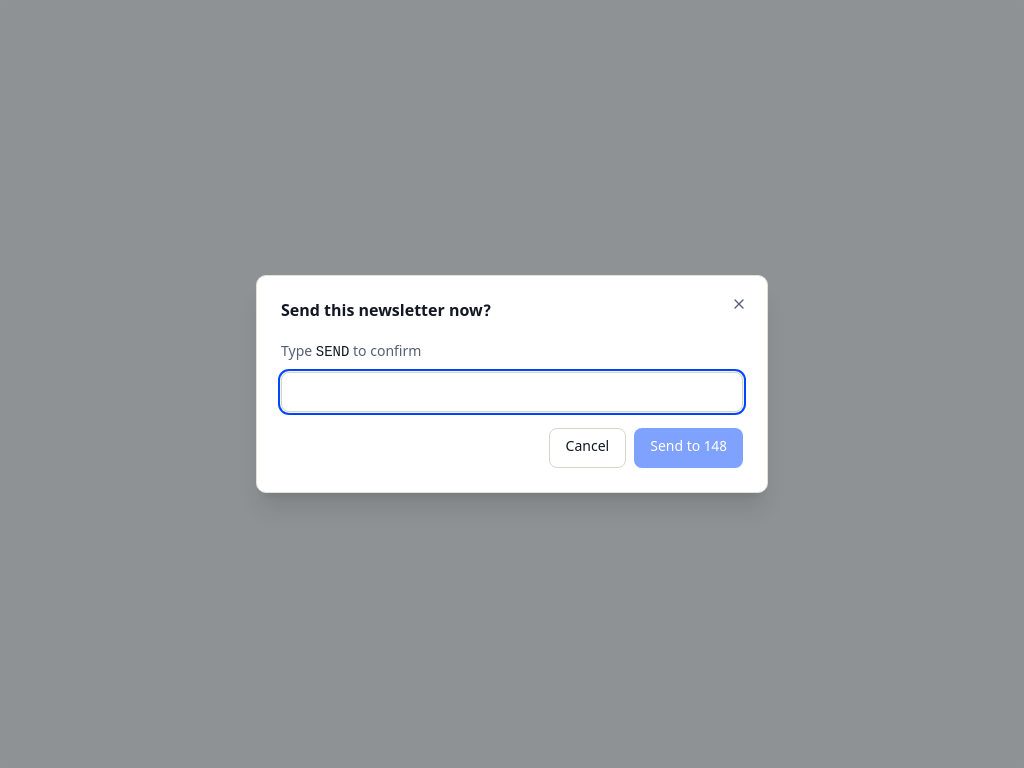
it: ConfirmDialog › requires the exact typed confirmation before sending
Later steps or results of the test are not shown.
expect the button "Send to 148" is disabled: met, box [634,428,743,468]
In the field labelled "Type SEND to confirm": [512, 392] box [281,372,743,412], type "send"
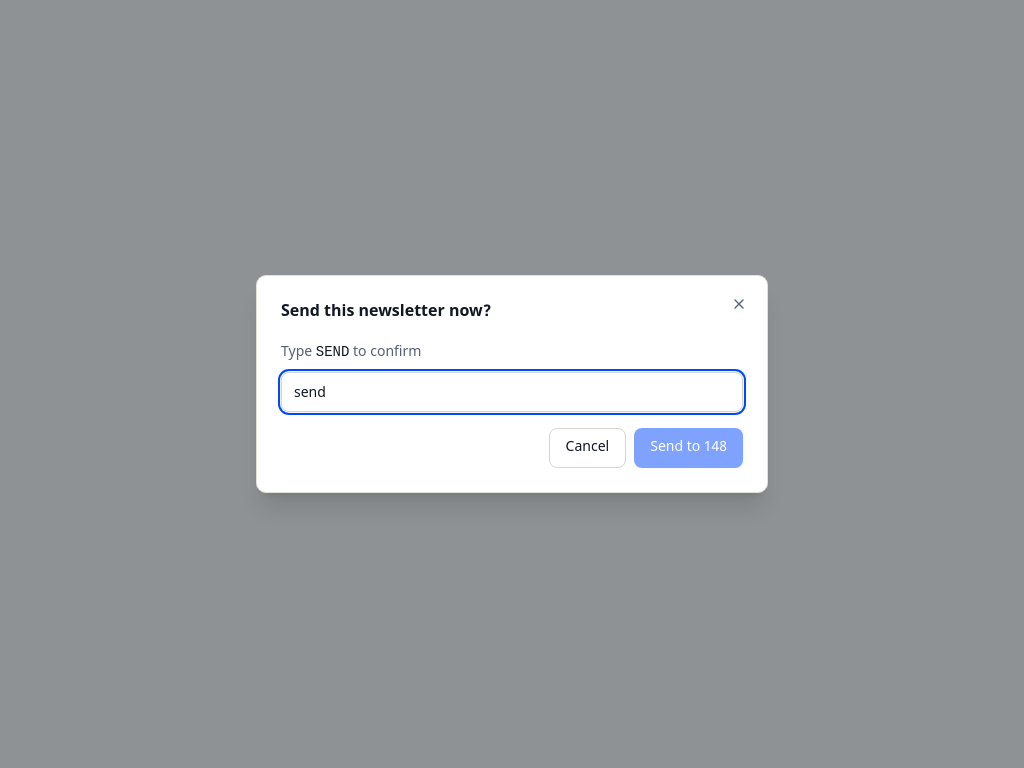
Click the button "Send to 148": [689, 448] box [634,428,743,468]
Replace the text in the field labelled "Type SEND to confirm" with "SEND": [512, 392] box [281,372,743,412]
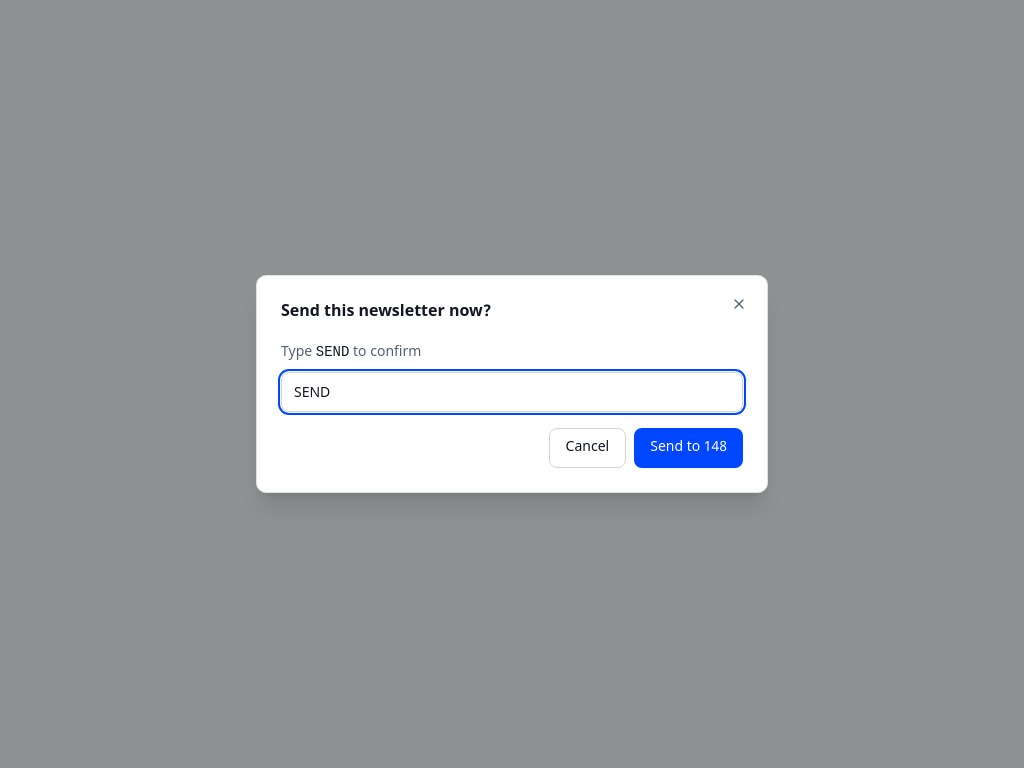
expect the button "Send to 148" is enabled: met, box [634,428,743,468]
